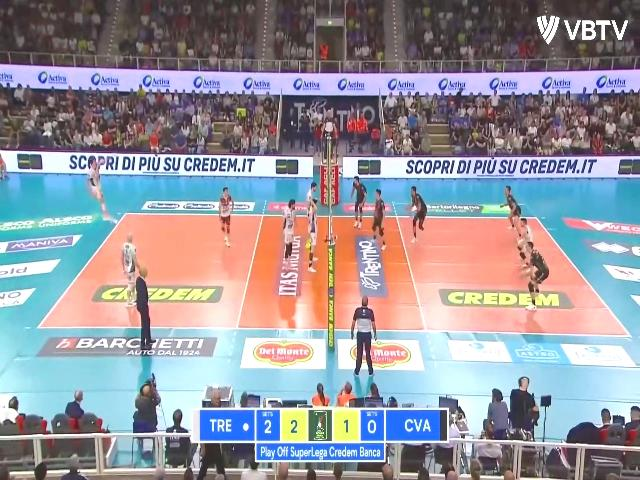volleyball court: (33, 209, 634, 336)
